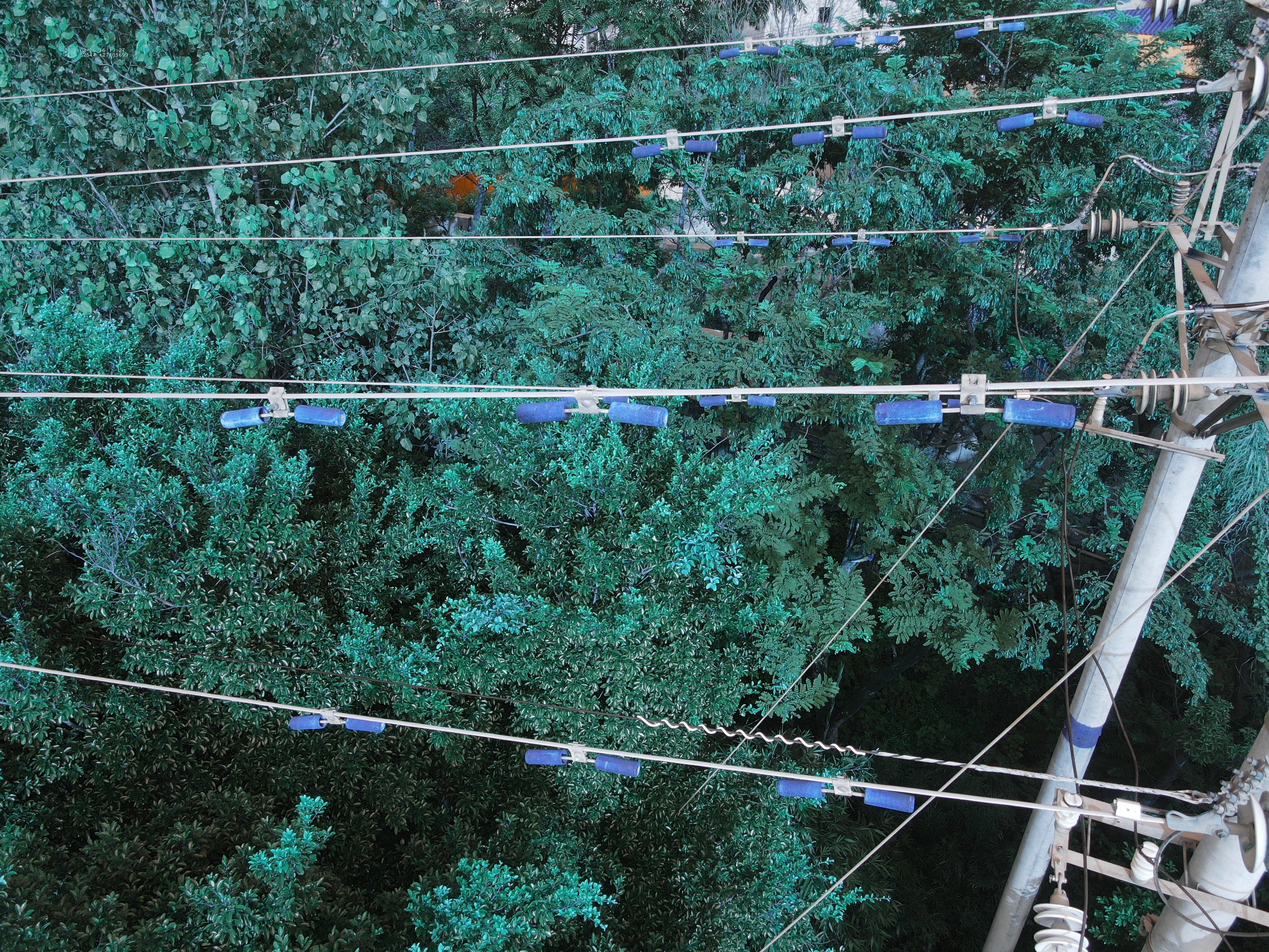severe_soiling_no_discharge_whole: (1132, 364, 1212, 417), (1085, 206, 1140, 245), (1238, 54, 1268, 110), (1148, 0, 1206, 25), (1169, 180, 1188, 217)
